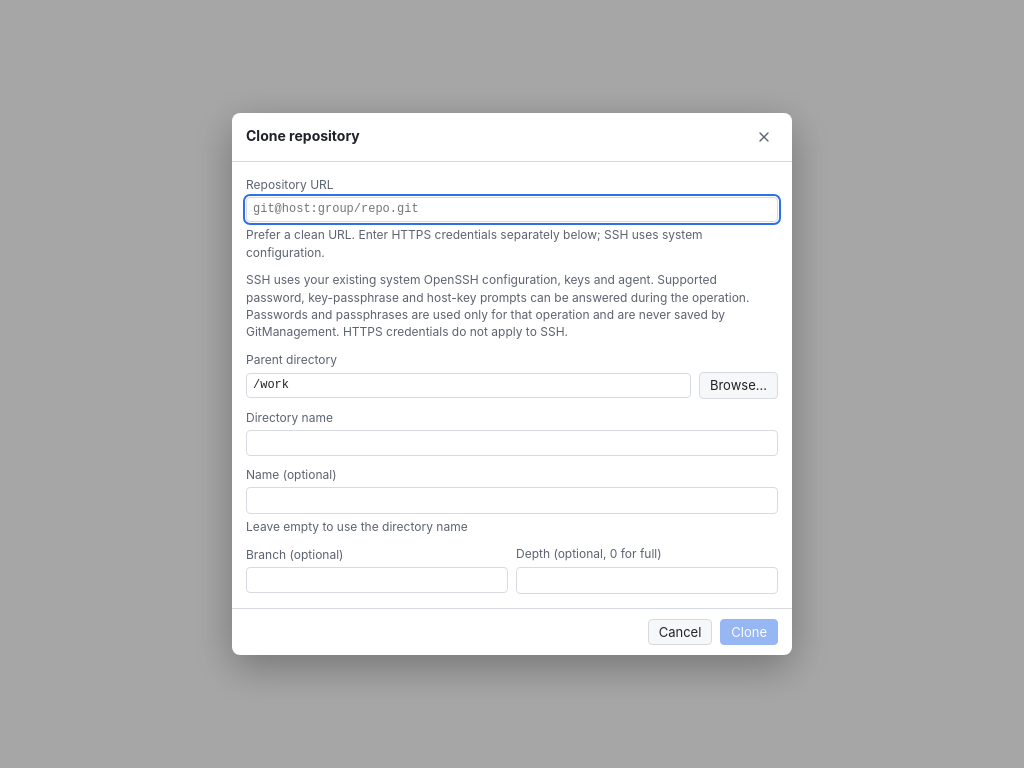
clears a rejected secret without leaking backend errors to stores
Step 1. Type "https://example.com/repo.git" into the field labelled "Repository URL" → {"x": 512, "y": 210}, box [246,197,778,222]
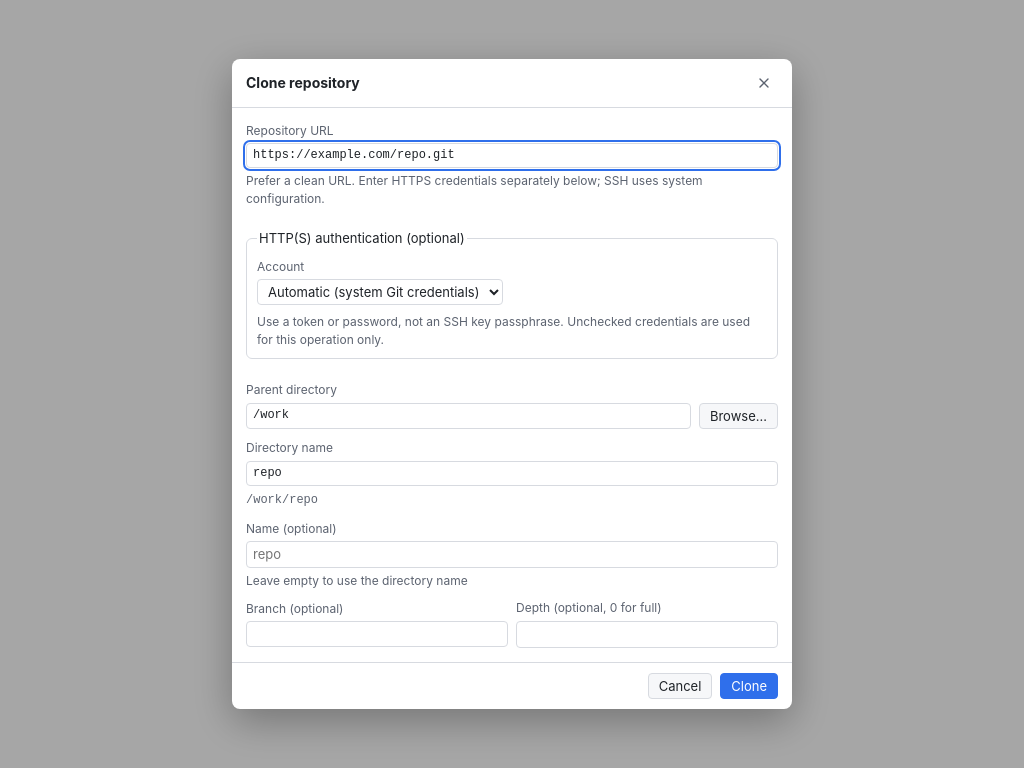
Step 2. Select "Use another credential" in the dropdown labelled "Account" → {"x": 380, "y": 292}, box [257,280,503,306]
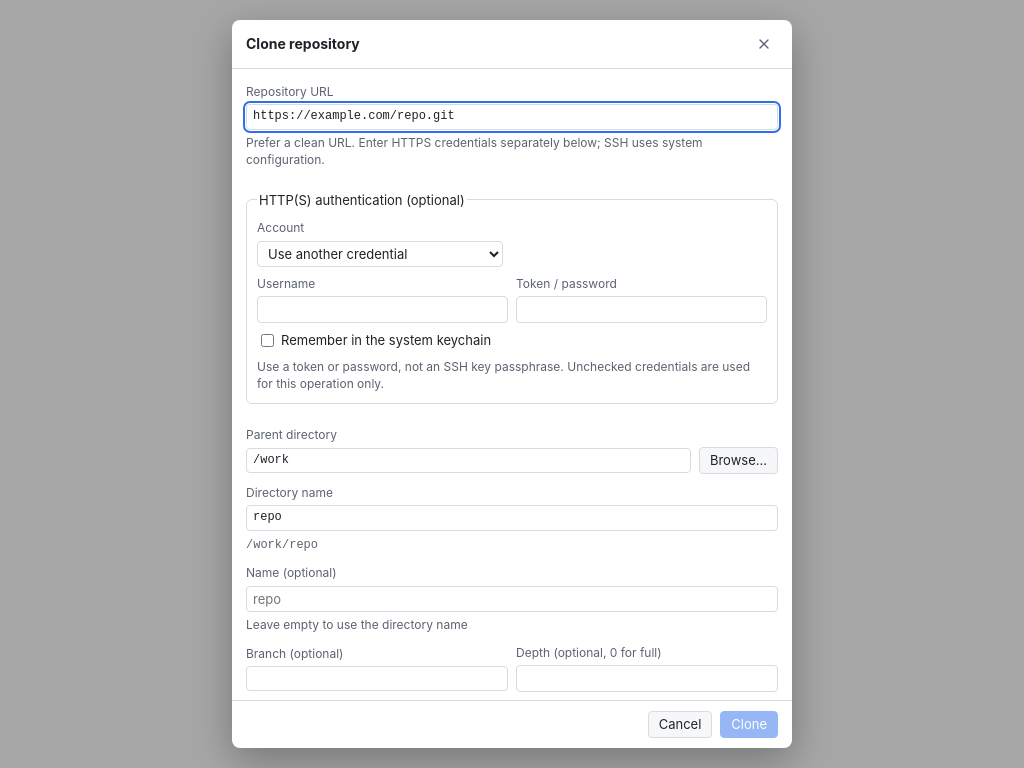
Step 3. Type "alice" into the field labelled "Username" → {"x": 382, "y": 310}, box [257,296,508,323]
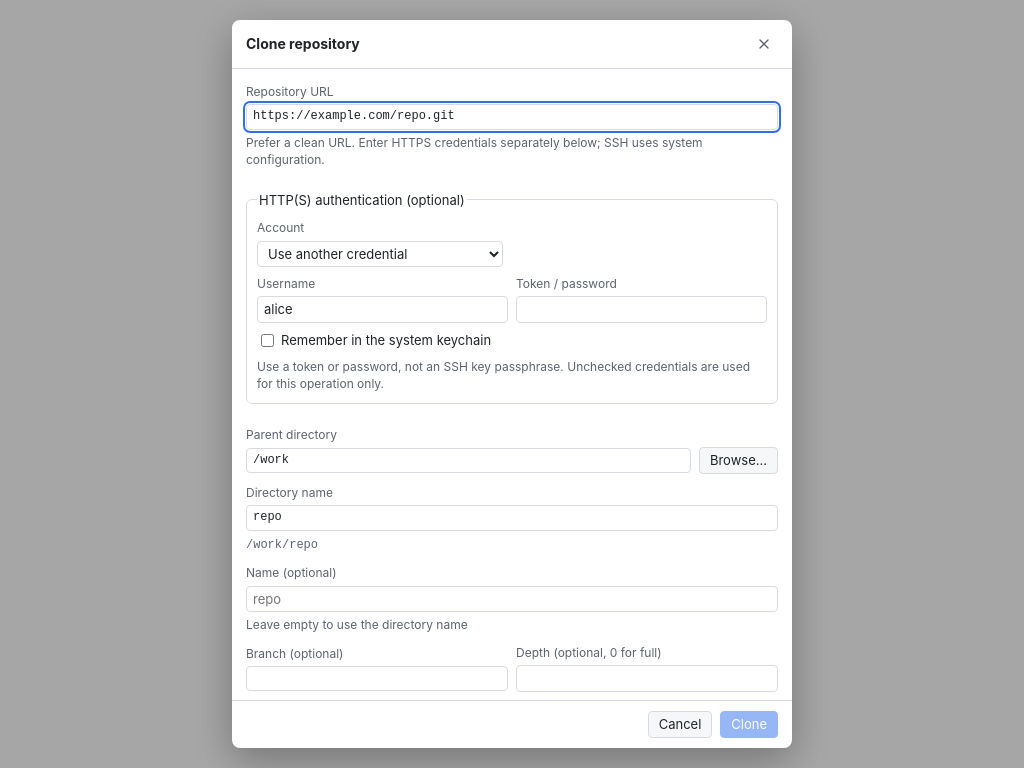
Step 4. Type "PRIVATE" into the password field labelled "Token / password" → {"x": 642, "y": 310}, box [516,296,767,323]
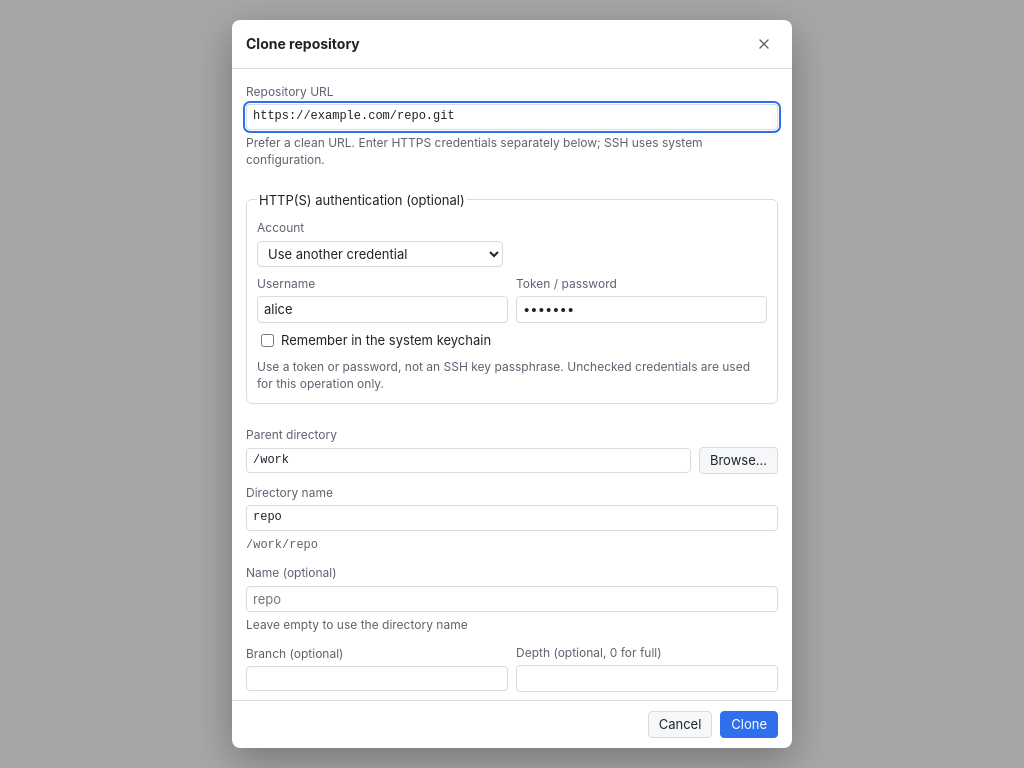
Step 5. Click the button "Clone" → {"x": 749, "y": 725}, box [720,711,778,738]
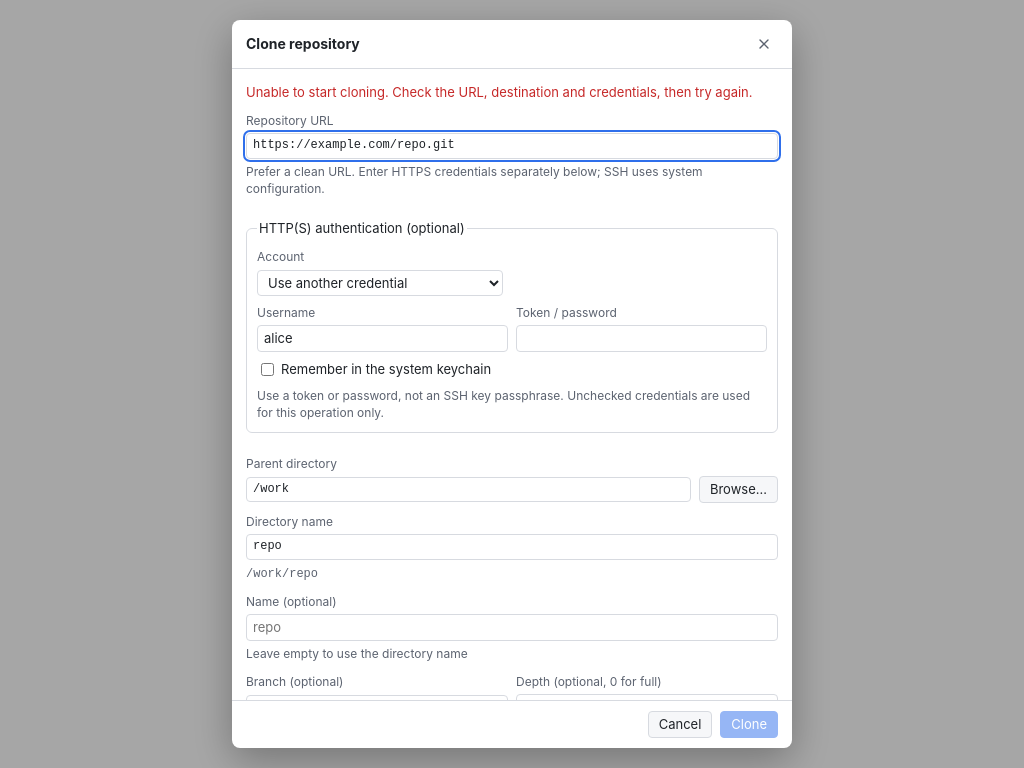
Expected: the password field labelled "Token / password" is empty, [516,325,767,352]
Expected: the message is shown, [246,83,778,102]
